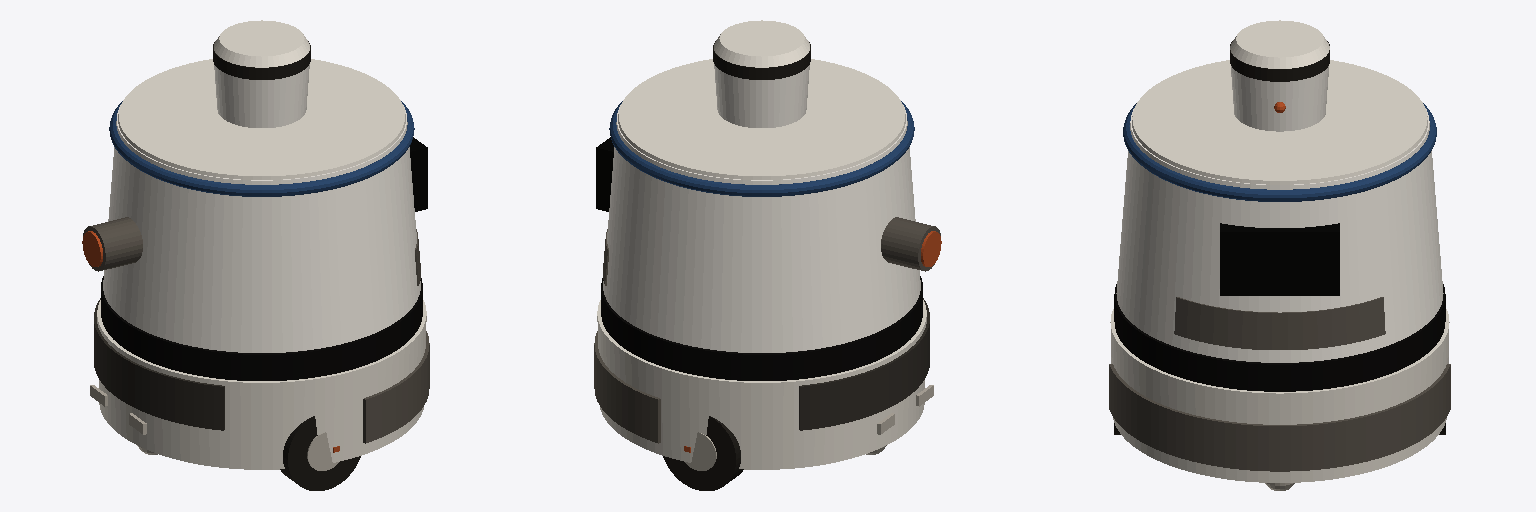
The robot description file, URDF, robot "oddech":
<?xml version="1.0"?>
<!-- Oddech OD-1 · generated by tools/build_model.py on 2026-10-15 from the part list: edit the generator, not this file.
     Frames: REP 103 (x forward, y left, z up), metres, kilograms. Design targets for a robot not yet built. -->
<robot name="oddech">
  <link name="base_footprint"/>
  <link name="base_link">
    <visual name="base_link_visual"><origin xyz="0 0 0" rpy="0 0 0"/><geometry><mesh filename="package://oddech_description/meshes/visual/base.dae"/></geometry></visual>
    <collision name="base_link_collision_0"><origin xyz="0 0 0.191" rpy="0 0 0"/><geometry><cylinder radius="0.173" length="0.322"/></geometry></collision>
    <inertial><origin xyz="-0.015 0 0.12" rpy="0 0 0"/><mass value="4.2"/><inertia ixx="0.06846" ixy="0" ixz="0" iyy="0.06846" iyz="0" izz="0.06069"/></inertial>
  </link>
  <link name="wheel_left_link">
    <visual name="wheel_left_link_visual"><origin xyz="0 0 0" rpy="0 0 0"/><geometry><mesh filename="package://oddech_description/meshes/visual/wheel.dae"/></geometry></visual>
    <collision name="wheel_left_link_collision_0"><origin xyz="0 0 0" rpy="1.5708 0 0"/><geometry><cylinder radius="0.045" length="0.028"/></geometry></collision>
    <inertial><origin xyz="0 0 0" rpy="0 0 0"/><mass value="0.28"/><inertia ixx="0.000160043" ixy="0" ixz="0" iyy="0.0002835" iyz="0" izz="0.000160043"/></inertial>
  </link>
  <link name="wheel_right_link">
    <visual name="wheel_right_link_visual"><origin xyz="0 0 0" rpy="0 0 0"/><geometry><mesh filename="package://oddech_description/meshes/visual/wheel.dae"/></geometry></visual>
    <collision name="wheel_right_link_collision_0"><origin xyz="0 0 0" rpy="1.5708 0 0"/><geometry><cylinder radius="0.045" length="0.028"/></geometry></collision>
    <inertial><origin xyz="0 0 0" rpy="0 0 0"/><mass value="0.28"/><inertia ixx="0.000160043" ixy="0" ixz="0" iyy="0.0002835" iyz="0" izz="0.000160043"/></inertial>
  </link>
  <link name="caster_front_link">
    <visual name="caster_front_link_visual"><origin xyz="0 0 0" rpy="0 0 0"/><geometry><mesh filename="package://oddech_description/meshes/visual/caster.dae"/></geometry></visual>
    <collision name="caster_front_link_collision_0"><origin xyz="0 0 0" rpy="0 0 0"/><geometry><sphere radius="0.018"/></geometry></collision>
    <inertial><origin xyz="0 0 0" rpy="0 0 0"/><mass value="0.02"/><inertia ixx="2.592e-06" ixy="0" ixz="0" iyy="2.592e-06" iyz="0" izz="2.592e-06"/></inertial>
  </link>
  <link name="caster_rear_link">
    <visual name="caster_rear_link_visual"><origin xyz="0 0 0" rpy="0 0 0"/><geometry><mesh filename="package://oddech_description/meshes/visual/caster.dae"/></geometry></visual>
    <collision name="caster_rear_link_collision_0"><origin xyz="0 0 0" rpy="0 0 0"/><geometry><sphere radius="0.018"/></geometry></collision>
    <inertial><origin xyz="0 0 0" rpy="0 0 0"/><mass value="0.02"/><inertia ixx="2.592e-06" ixy="0" ixz="0" iyy="2.592e-06" iyz="0" izz="2.592e-06"/></inertial>
  </link>
  <link name="head_link">
    <visual name="head_link_visual"><origin xyz="0 0 0" rpy="0 0 0"/><geometry><mesh filename="package://oddech_description/meshes/visual/head.dae"/></geometry></visual>
    <collision name="head_link_collision_0"><origin xyz="0 0 0.0025" rpy="0 0 0"/><geometry><cylinder radius="0.05" length="0.081"/></geometry></collision>
    <inertial><origin xyz="0 0 0.0025" rpy="0 0 0"/><mass value="0.3"/><inertia ixx="0.000351525" ixy="0" ixz="0" iyy="0.000351525" iyz="0" izz="0.000375"/></inertial>
  </link>
  <link name="lidar_link"/>
  <link name="imu_link"/>
  <link name="cartridge_link"/>
  <link name="mast_stage_1">
    <visual name="mast_stage_1_visual"><origin xyz="0 0 0" rpy="0 0 0"/><geometry><mesh filename="package://oddech_description/meshes/visual/mast_stage_1.dae"/></geometry></visual>
    <collision name="mast_stage_1_collision_0"><origin xyz="0 0 0.16" rpy="0 0 0"/><geometry><cylinder radius="0.024" length="0.32"/></geometry></collision>
    <inertial><origin xyz="0 0 0.16" rpy="0 0 0"/><mass value="0.130288"/><inertia ixx="0.00114932" ixy="0" ixz="0" iyy="0.00114932" iyz="0" izz="7.5046e-05"/></inertial>
  </link>
  <link name="mast_stage_2">
    <visual name="mast_stage_2_visual"><origin xyz="0 0 0" rpy="0 0 0"/><geometry><mesh filename="package://oddech_description/meshes/visual/mast_stage_2.dae"/></geometry></visual>
    <collision name="mast_stage_2_collision_0"><origin xyz="0 0 0.16" rpy="0 0 0"/><geometry><cylinder radius="0.0195" length="0.32"/></geometry></collision>
    <inertial><origin xyz="0 0 0.16" rpy="0 0 0"/><mass value="0.105859"/><inertia ixx="0.000923458" ixy="0" ixz="0" iyy="0.000923458" iyz="0" izz="4.02529e-05"/></inertial>
  </link>
  <link name="mast_stage_3">
    <visual name="mast_stage_3_visual"><origin xyz="0 0 0" rpy="0 0 0"/><geometry><mesh filename="package://oddech_description/meshes/visual/mast_stage_3.dae"/></geometry></visual>
    <collision name="mast_stage_3_collision_0"><origin xyz="0 0 0.16" rpy="0 0 0"/><geometry><cylinder radius="0.015" length="0.32"/></geometry></collision>
    <inertial><origin xyz="0 0 0.16" rpy="0 0 0"/><mass value="0.0814301"/><inertia ixx="0.000704031" ixy="0" ixz="0" iyy="0.000704031" iyz="0" izz="1.83218e-05"/></inertial>
  </link>
  <link name="mast_stage_4">
    <visual name="mast_stage_4_visual"><origin xyz="0 0 0" rpy="0 0 0"/><geometry><mesh filename="package://oddech_description/meshes/visual/mast_stage_4.dae"/></geometry></visual>
    <collision name="mast_stage_4_collision_0"><origin xyz="0 0 0.16" rpy="0 0 0"/><geometry><cylinder radius="0.0105" length="0.32"/></geometry></collision>
    <inertial><origin xyz="0 0 0.16" rpy="0 0 0"/><mass value="0.0570011"/><inertia ixx="0.000489551" ixy="0" ixz="0" iyy="0.000489551" iyz="0" izz="6.28437e-06"/></inertial>
  </link>
  <joint name="base_joint" type="fixed"><parent link="base_footprint"/><child link="base_link"/><origin xyz="0 0 0" rpy="0 0 0"/></joint>
  <joint name="wheel_left_joint" type="continuous"><parent link="base_link"/><child link="wheel_left_link"/><origin xyz="-0.02 0.152 0.045" rpy="0 0 0"/><axis xyz="0 1 0"/><dynamics damping="0.01" friction="0.0"/></joint>
  <joint name="wheel_right_joint" type="continuous"><parent link="base_link"/><child link="wheel_right_link"/><origin xyz="-0.02 -0.152 0.045" rpy="0 0 0"/><axis xyz="0 1 0"/><dynamics damping="0.01" friction="0.0"/></joint>
  <joint name="caster_front_joint" type="fixed"><parent link="base_link"/><child link="caster_front_link"/><origin xyz="0.12 0 0.018" rpy="0 0 0"/></joint>
  <joint name="caster_rear_joint" type="fixed"><parent link="base_link"/><child link="caster_rear_link"/><origin xyz="-0.13 0 0.0185" rpy="0 0 0"/></joint>
  <joint name="mast_joint_1" type="prismatic"><parent link="base_link"/><child link="mast_stage_1"/><origin xyz="0 0 0.032" rpy="0 0 0"/><axis xyz="0 0 1"/><limit lower="0.0" upper="0.3" effort="60.0" velocity="0.0625"/><dynamics damping="2.0" friction="0.2"/></joint>
  <joint name="mast_joint_2" type="prismatic"><parent link="mast_stage_1"/><child link="mast_stage_2"/><origin xyz="0 0 0.003" rpy="0 0 0"/><axis xyz="0 0 1"/><limit lower="0.0" upper="0.3" effort="60.0" velocity="0.0625"/><dynamics damping="2.0" friction="0.2"/></joint>
  <joint name="mast_joint_3" type="prismatic"><parent link="mast_stage_2"/><child link="mast_stage_3"/><origin xyz="0 0 0.003" rpy="0 0 0"/><axis xyz="0 0 1"/><limit lower="0.0" upper="0.3" effort="60.0" velocity="0.0625"/><dynamics damping="2.0" friction="0.2"/></joint>
  <joint name="mast_joint_4" type="prismatic"><parent link="mast_stage_3"/><child link="mast_stage_4"/><origin xyz="0 0 0.003" rpy="0 0 0"/><axis xyz="0 0 1"/><limit lower="0.0" upper="0.3" effort="60.0" velocity="0.0625"/><dynamics damping="2.0" friction="0.2"/></joint>
  <joint name="head_joint" type="fixed"><parent link="mast_stage_4"/><child link="head_link"/><origin xyz="0 0 0.359" rpy="0 0 0"/></joint>
  <joint name="lidar_joint" type="fixed"><parent link="base_link"/><child link="lidar_link"/><origin xyz="0 0 0.145" rpy="0 0 0"/></joint>
  <joint name="imu_joint" type="fixed"><parent link="base_link"/><child link="imu_link"/><origin xyz="0 0 0.1" rpy="0 0 0"/></joint>
  <joint name="cartridge_joint" type="fixed"><parent link="base_link"/><child link="cartridge_link"/><origin xyz="0.07 0 0.29" rpy="0 0 0"/></joint>
  <!-- Gazebo Harmonic: friction, sensors and model plugins -->
  <gazebo reference="wheel_left_link"><mu1>1.0</mu1><mu2>1.0</mu2></gazebo>
  <gazebo reference="wheel_right_link"><mu1>1.0</mu1><mu2>1.0</mu2></gazebo>
  <gazebo reference="caster_front_link"><mu1>0.0</mu1><mu2>0.0</mu2></gazebo>
  <gazebo reference="caster_rear_link"><mu1>0.0</mu1><mu2>0.0</mu2></gazebo>
  <gazebo reference="lidar_link">
    <sensor name="lidar" type="gpu_lidar"><topic>/scan</topic><gz_frame_id>lidar_link</gz_frame_id><update_rate>10</update_rate><always_on>true</always_on><visualize>true</visualize><lidar><scan><horizontal><samples>360</samples><resolution>1</resolution><min_angle>-3.14159</min_angle><max_angle>3.12414</max_angle></horizontal></scan><range><min>0.2</min><max>8.0</max><resolution>0.01</resolution></range><noise><type>gaussian</type><mean>0</mean><stddev>0.01</stddev></noise></lidar></sensor>
  </gazebo>
  <gazebo reference="imu_link">
    <sensor name="imu" type="imu"><topic>/imu</topic><gz_frame_id>imu_link</gz_frame_id><update_rate>50</update_rate><always_on>true</always_on></sensor>
  </gazebo>
  <gazebo>
    <plugin filename="gz-sim-diff-drive-system" name="gz::sim::systems::DiffDrive">
      <left_joint>wheel_left_joint</left_joint><right_joint>wheel_right_joint</right_joint>
      <wheel_separation>0.304</wheel_separation><wheel_radius>0.045</wheel_radius>
      <max_linear_velocity>0.3</max_linear_velocity><max_angular_velocity>1.6</max_angular_velocity>
      <max_linear_acceleration>0.5</max_linear_acceleration><min_linear_acceleration>-0.5</min_linear_acceleration>
      <topic>/cmd_vel</topic><odom_topic>/odom</odom_topic><tf_topic>/tf</tf_topic>
      <frame_id>odom</frame_id><child_frame_id>base_footprint</child_frame_id><odom_publish_frequency>30</odom_publish_frequency>
    </plugin>
    <plugin filename="gz-sim-joint-state-publisher-system" name="gz::sim::systems::JointStatePublisher"><topic>/joint_states</topic></plugin>
    <plugin filename="gz-sim-joint-position-controller-system" name="gz::sim::systems::JointPositionController"><joint_name>mast_joint_1</joint_name><topic>/mast/cmd</topic><initial_position>0</initial_position><p_gain>600.0</p_gain><i_gain>60.0</i_gain><d_gain>80.0</d_gain><i_max>20</i_max><i_min>-20</i_min><cmd_max>60.0</cmd_max><cmd_min>-60.0</cmd_min></plugin>
    <plugin filename="gz-sim-joint-position-controller-system" name="gz::sim::systems::JointPositionController"><joint_name>mast_joint_2</joint_name><topic>/mast/cmd</topic><initial_position>0</initial_position><p_gain>600.0</p_gain><i_gain>60.0</i_gain><d_gain>80.0</d_gain><i_max>20</i_max><i_min>-20</i_min><cmd_max>60.0</cmd_max><cmd_min>-60.0</cmd_min></plugin>
    <plugin filename="gz-sim-joint-position-controller-system" name="gz::sim::systems::JointPositionController"><joint_name>mast_joint_3</joint_name><topic>/mast/cmd</topic><initial_position>0</initial_position><p_gain>600.0</p_gain><i_gain>60.0</i_gain><d_gain>80.0</d_gain><i_max>20</i_max><i_min>-20</i_min><cmd_max>60.0</cmd_max><cmd_min>-60.0</cmd_min></plugin>
    <plugin filename="gz-sim-joint-position-controller-system" name="gz::sim::systems::JointPositionController"><joint_name>mast_joint_4</joint_name><topic>/mast/cmd</topic><initial_position>0</initial_position><p_gain>600.0</p_gain><i_gain>60.0</i_gain><d_gain>80.0</d_gain><i_max>20</i_max><i_min>-20</i_min><cmd_max>60.0</cmd_max><cmd_min>-60.0</cmd_min></plugin>
  </gazebo>
</robot>

--- Render facts (derived) ---
3 views of the same robot in one strip: view 1: azimuth 30°, elevation 25°; view 2: azimuth 150°, elevation 25°; view 3: azimuth 270°, elevation 25° (orthographic).
Robot: oddech — 14 links, 13 joints (2 continuous, 4 prismatic, 7 fixed); root link base_footprint; default pose: all joints at 0.
Links seen in each view (by area): view 1: base_link, head_link, wheel_right_link; view 2: base_link, head_link, wheel_left_link; view 3: base_link, head_link.
Link boxes in pixels (<box>): base_link: <box>82,59,429,469</box>; head_link: <box>213,20,310,127</box>; wheel_right_link: <box>280,416,360,490</box>; base_link: <box>594,59,941,469</box>; head_link: <box>713,20,810,127</box>; wheel_left_link: <box>663,416,743,490</box>; base_link: <box>1109,60,1450,482</box>; head_link: <box>1230,20,1329,131</box>.
Size in the robot's own frame: 0.376 by 0.3425 by 0.443 metres.
10 mesh visuals loaded from 8 distinct referenced files (8 Collada DAE).
